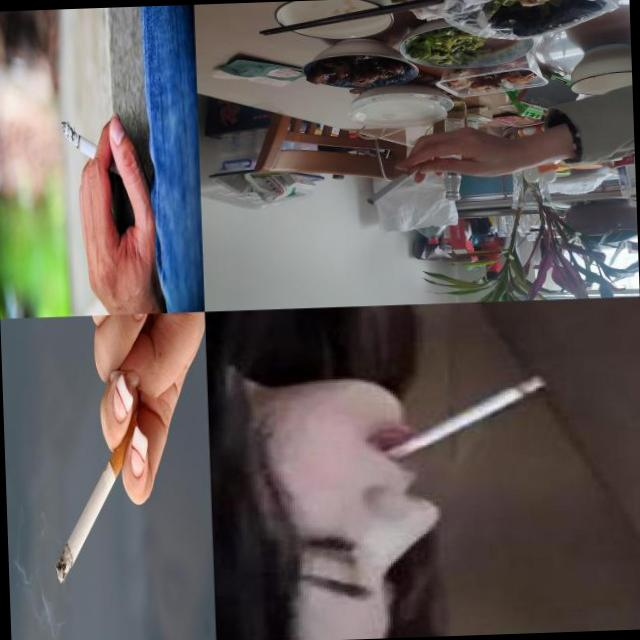cigarette: (352, 368, 566, 470), (49, 410, 144, 584), (61, 118, 122, 178), (364, 160, 427, 205)
